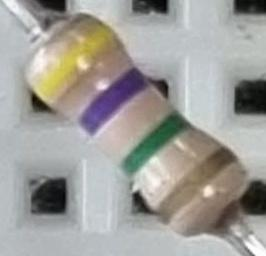Blue: (75, 63, 151, 139)
Green: (115, 108, 195, 182)
Side-Silver: (153, 144, 243, 227)
Yellow: (34, 22, 124, 107)
